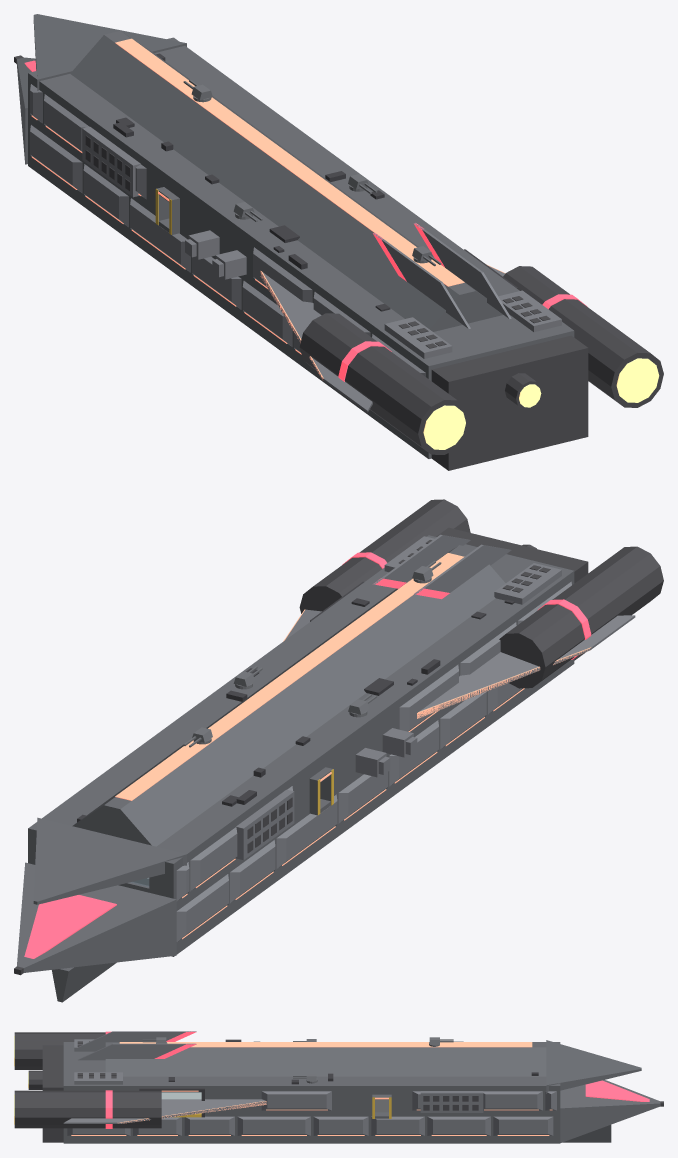
File: ship_SMALL_FRIGATE_v3.glb
3 views of the same model, one above another, from view 1: azimuth 30°, elevation 25°; view 2: azimuth 150°, elevation 25°; view 3: azimuth 270°, elevation 25° (orthographic). The views are drawn at different scales.
Visible parts, largest first — view 1: SMALL_FRIGATE_Hull-col, SMALL_FRIGATE_Engines, SMALL_FRIGATE_Armor, SMALL_FRIGATE_Lights, SMALL_FRIGATE_EngineGlow, SMALL_FRIGATE_Details, SMALL_FRIGATE_Accent, SMALL_FRIGATE_EscapePod_1, SMALL_FRIGATE_EscapePod_2; view 2: SMALL_FRIGATE_Hull-col, SMALL_FRIGATE_Armor, SMALL_FRIGATE_Engines, SMALL_FRIGATE_Lights, SMALL_FRIGATE_Accent, SMALL_FRIGATE_Details, SMALL_FRIGATE_EscapePod_1, SMALL_FRIGATE_EscapePod_2; view 3: SMALL_FRIGATE_Hull-col, SMALL_FRIGATE_Armor, SMALL_FRIGATE_Engines, SMALL_FRIGATE_Lights, SMALL_FRIGATE_Accent, SMALL_FRIGATE_Trim, SMALL_FRIGATE_CargoBayDoor-col, SMALL_FRIGATE_CargoBayShield, SMALL_FRIGATE_Details, SMALL_FRIGATE_Hazard, SMALL_FRIGATE_Airlock_2_OuterDoor-col.
Part boxes in pixels (x1=…): SMALL_FRIGATE_Hull-col: x1=16, y1=14, x2=574, y2=458; SMALL_FRIGATE_Engines: x1=14, y1=55, x2=663, y2=470; SMALL_FRIGATE_Armor: x1=30, y1=84, x2=561, y2=412; SMALL_FRIGATE_Lights: x1=31, y1=38, x2=505, y2=379; SMALL_FRIGATE_EngineGlow: x1=423, y1=358, x2=659, y2=449; SMALL_FRIGATE_Details: x1=113, y1=53, x2=390, y2=311; SMALL_FRIGATE_Accent: x1=24, y1=60, x2=587, y2=381; SMALL_FRIGATE_EscapePod_1: x1=212, y1=250, x2=246, y2=279; SMALL_FRIGATE_EscapePod_2: x1=185, y1=230, x2=219, y2=259; SMALL_FRIGATE_Hull-col: x1=16, y1=535, x2=574, y2=1002; SMALL_FRIGATE_Armor: x1=176, y1=534, x2=635, y2=942; SMALL_FRIGATE_Engines: x1=14, y1=499, x2=663, y2=975; SMALL_FRIGATE_Lights: x1=115, y1=553, x2=591, y2=939; SMALL_FRIGATE_Accent: x1=24, y1=552, x2=591, y2=958; SMALL_FRIGATE_Details: x1=77, y1=598, x2=514, y2=822; SMALL_FRIGATE_EscapePod_1: x1=382, y1=728, x2=417, y2=757; SMALL_FRIGATE_EscapePod_2: x1=355, y1=748, x2=390, y2=777; SMALL_FRIGATE_Hull-col: x1=63, y1=1040, x2=660, y2=1143; SMALL_FRIGATE_Armor: x1=63, y1=1031, x2=556, y2=1135; SMALL_FRIGATE_Engines: x1=14, y1=1032, x2=663, y2=1142; SMALL_FRIGATE_Lights: x1=71, y1=1042, x2=552, y2=1135; SMALL_FRIGATE_Accent: x1=105, y1=1031, x2=649, y2=1128; SMALL_FRIGATE_Trim: x1=139, y1=1088, x2=204, y2=1117; SMALL_FRIGATE_CargoBayDoor-col: x1=161, y1=1092, x2=201, y2=1099; SMALL_FRIGATE_CargoBayShield: x1=161, y1=1092, x2=201, y2=1099; SMALL_FRIGATE_Details: x1=168, y1=1039, x2=538, y2=1084; SMALL_FRIGATE_Hazard: x1=173, y1=1097, x2=391, y2=1118; SMALL_FRIGATE_Airlock_2_OuterDoor-col: x1=375, y1=1099, x2=388, y2=1112.
Bounding box in the file's own units: 27.41 × 16.45 × 92.9.
